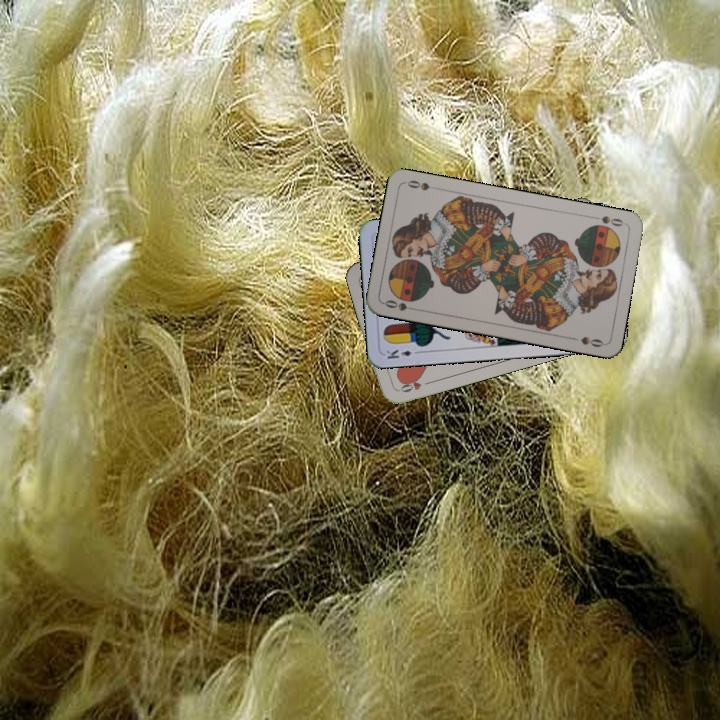EK: (382, 345, 423, 362)
HO: (393, 373, 433, 395)
SO: (380, 296, 420, 313), (588, 212, 628, 229)
